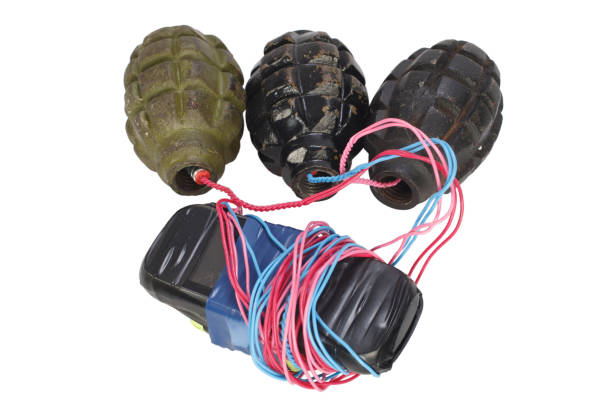e1: (371, 30, 505, 203), (123, 26, 245, 202), (246, 27, 366, 201)
